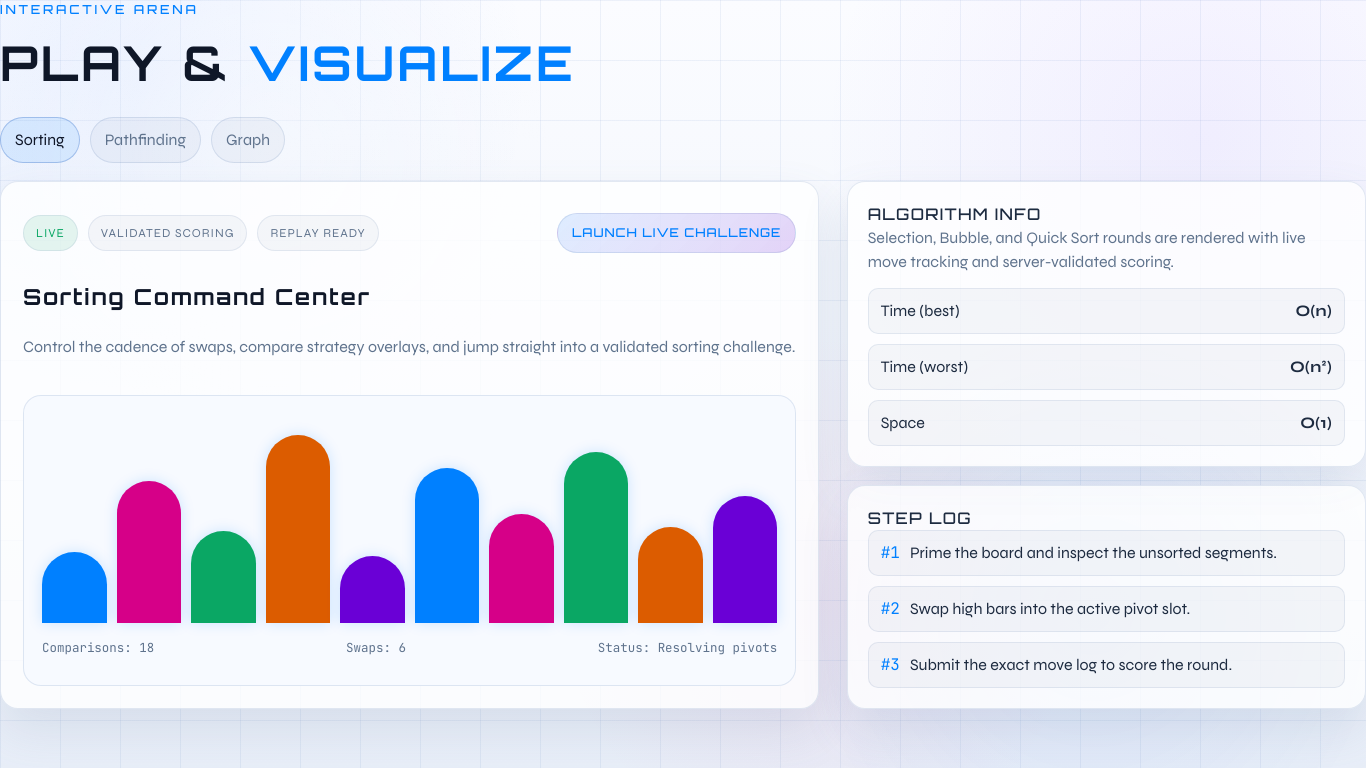
Test: ArenaShowcase › switches preview tabs and updates the launch link
This screenshot has width=1366, height=768.
Check: the heading "Sorting Command Center" is shown, box [23,283,371,310]
Click the tab "Pathfinding": (145,140) [90,117,201,163]
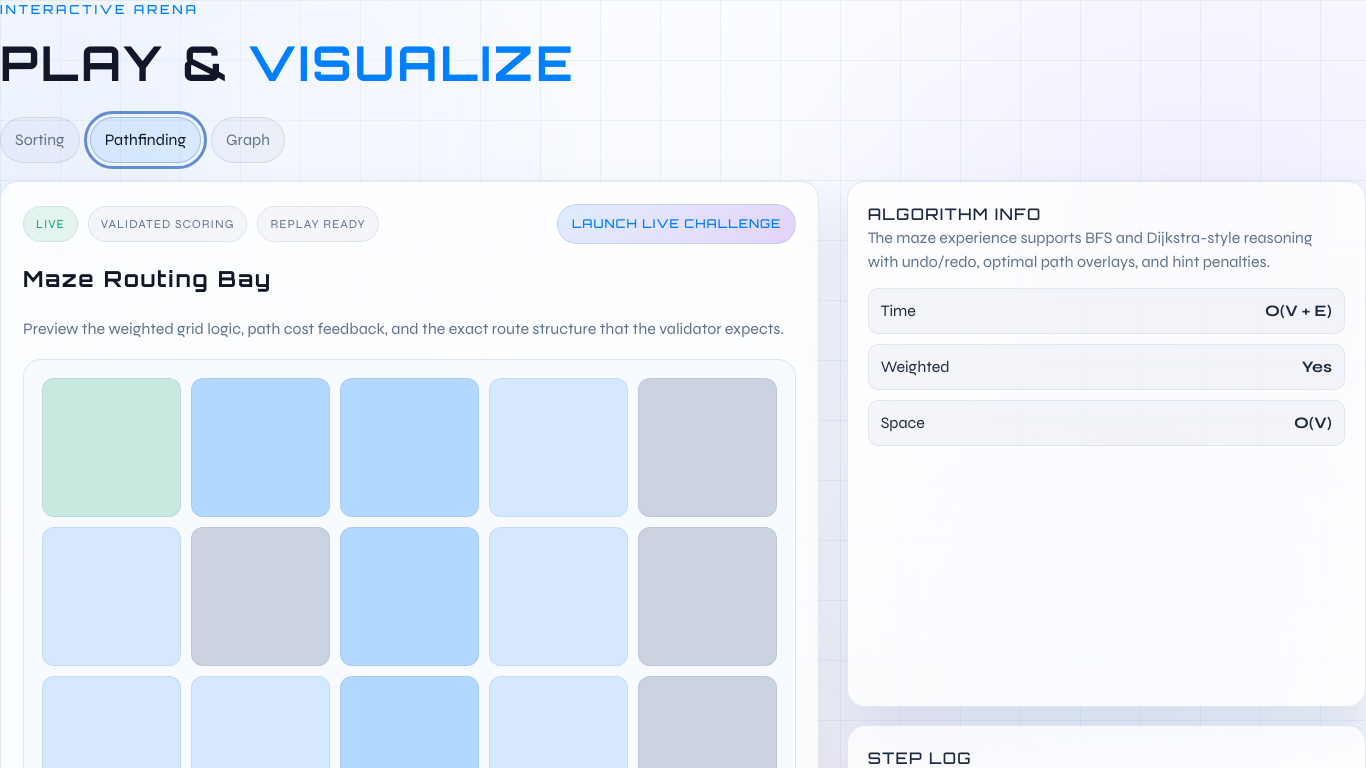
Check: the heading "Maze Routing Bay" is shown, box [23,265,272,292]
